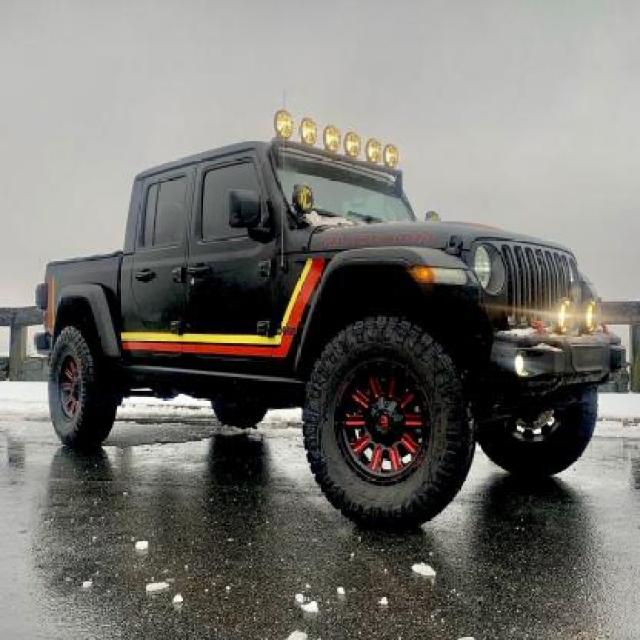Jeep: (32, 111, 626, 529)
